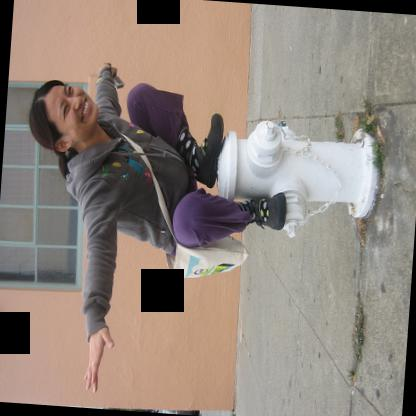handbag: (118, 126, 257, 279)
